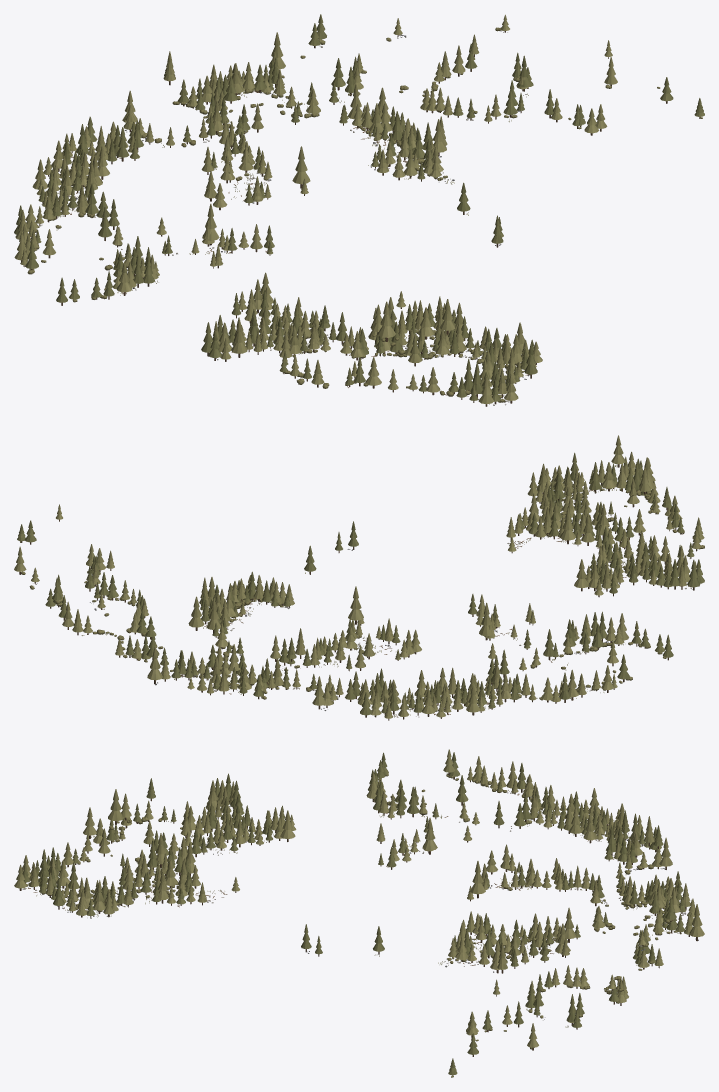
The model's file is Foliage_P2.fbx.
3 renders of one model, top to bottom at view 1: azimuth 30°, elevation 25°; view 2: azimuth 150°, elevation 25°; view 3: azimuth 270°, elevation 25°, orthographic. The views are drawn at different scales.
Bounding box in the file's own units: 51120 × 6485 × 50145.
